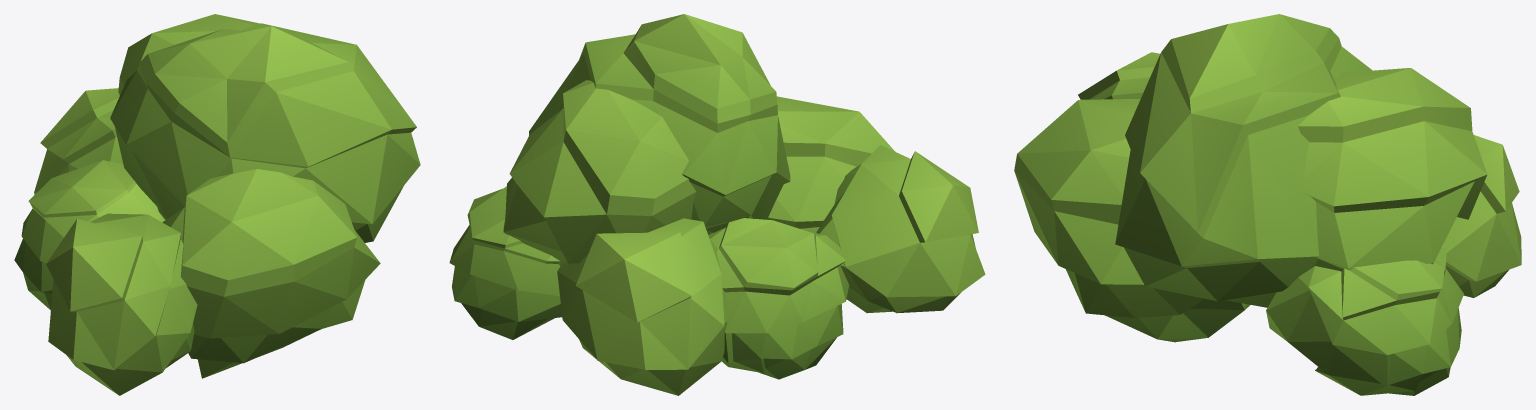
The model's file is SM_BUSH.fbx.
The picture shows the model from 3 angles, left to right: view 1: azimuth 30°, elevation 25°; view 2: azimuth 150°, elevation 25°; view 3: azimuth 270°, elevation 25°; orthographic projection. The views are drawn at different scales.
Parts seen in each view (by area): view 1: BUSH; view 2: BUSH; view 3: BUSH.
Boxes of the visible parts, x1,y1,x2,y2 form: BUSH: [14, 14, 420, 395]; BUSH: [449, 14, 985, 395]; BUSH: [1014, 14, 1521, 395].
Size of the model in its own units: 153 by 107 by 148.
Materials: 1 (1 with a texture image).
